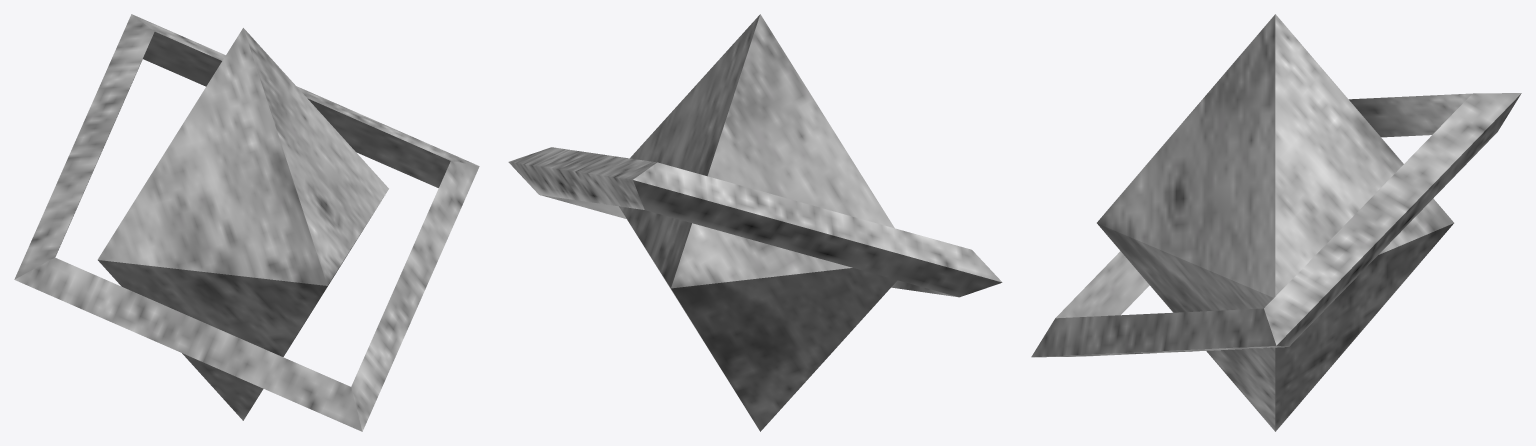
File: s30_seed.glb
3 renders of one model, left to right at view 1: azimuth 30°, elevation 25°; view 2: azimuth 150°, elevation 25°; view 3: azimuth 270°, elevation 25°, orthographic. The views are drawn at different scales.
Parts seen in each view (by area): view 1: model_s30_seed; view 2: model_s30_seed; view 3: model_s30_seed.
Part boxes in pixels (bbox=[...]): model_s30_seed: bbox=[14, 14, 479, 431]; model_s30_seed: bbox=[508, 14, 1002, 431]; model_s30_seed: bbox=[1031, 14, 1521, 431].
Bounding box in the file's own units: 0.3401 × 0.2747 × 0.2923.
1 material, 1 textured.
